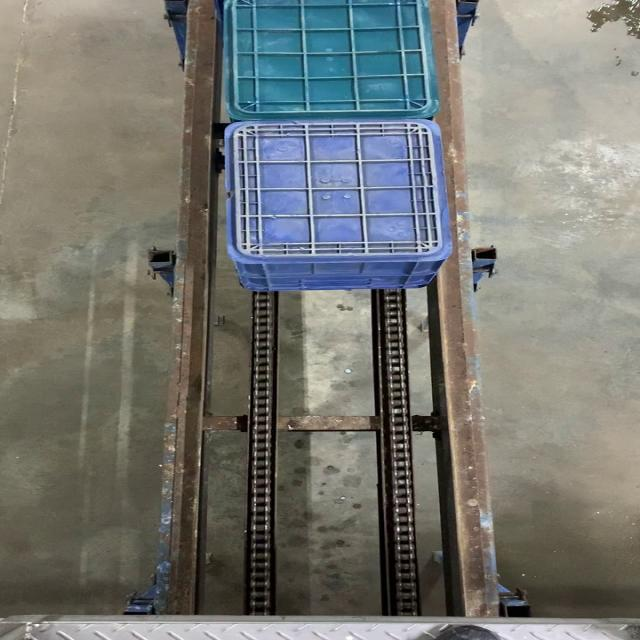Box: (221, 121, 451, 263)
